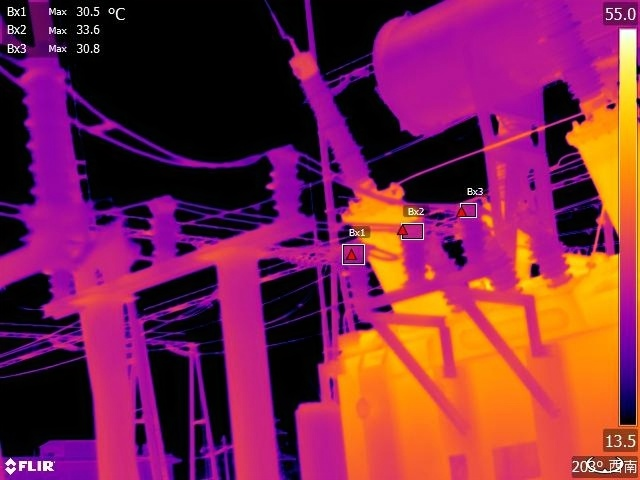oil conservator: (378, 1, 640, 143)
post insulator: (21, 55, 95, 237), (259, 151, 312, 218), (141, 203, 190, 273), (332, 248, 383, 300), (389, 230, 429, 287), (456, 208, 491, 264)
transformer: (314, 267, 640, 480)
tube: (281, 45, 387, 196), (534, 1, 613, 105), (522, 207, 580, 286), (425, 228, 477, 312), (481, 227, 522, 295)
